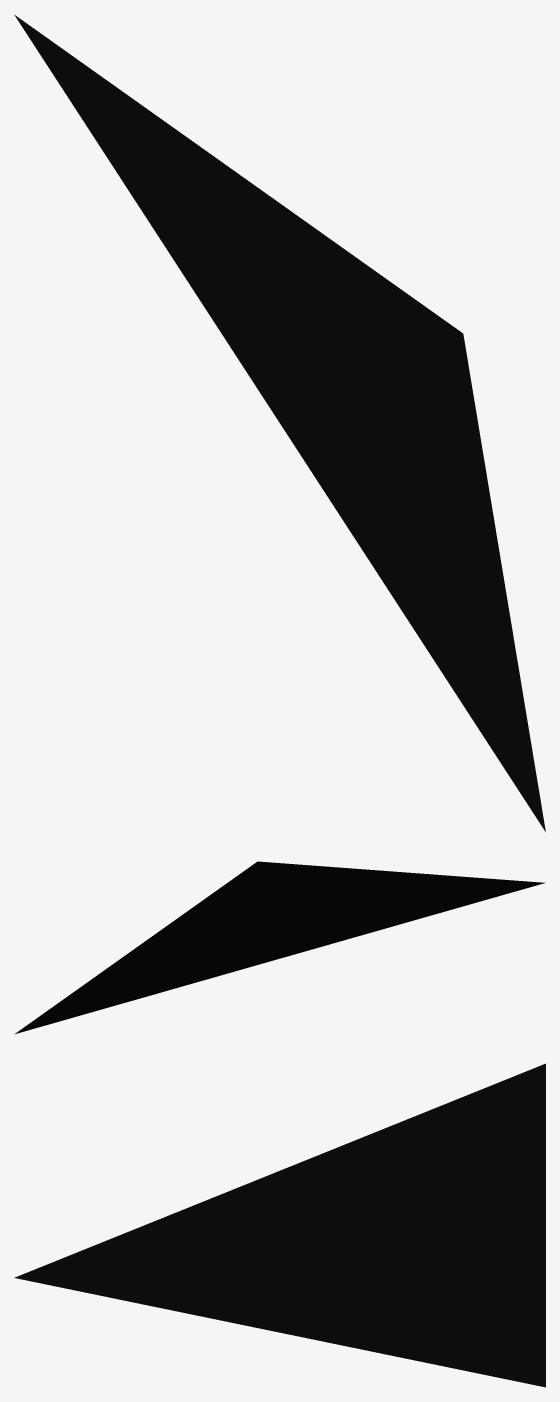
The picture shows the model from 3 angles, top to bottom: view 1: azimuth 30°, elevation 25°; view 2: azimuth 150°, elevation 25°; view 3: azimuth 270°, elevation 25°; orthographic projection. The views are drawn at different scales.
Bounding box in the file's own units: 0.9749 × 0.8891 × 2.
1 material, 1 textured.
